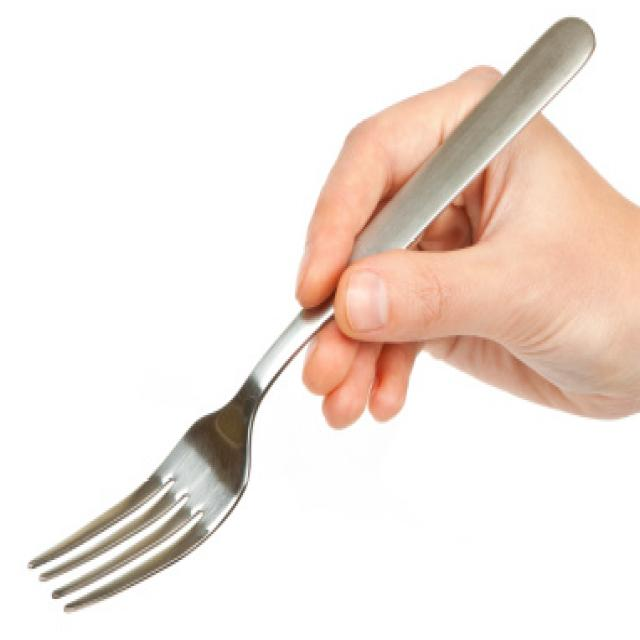fork: (26, 10, 602, 619)
